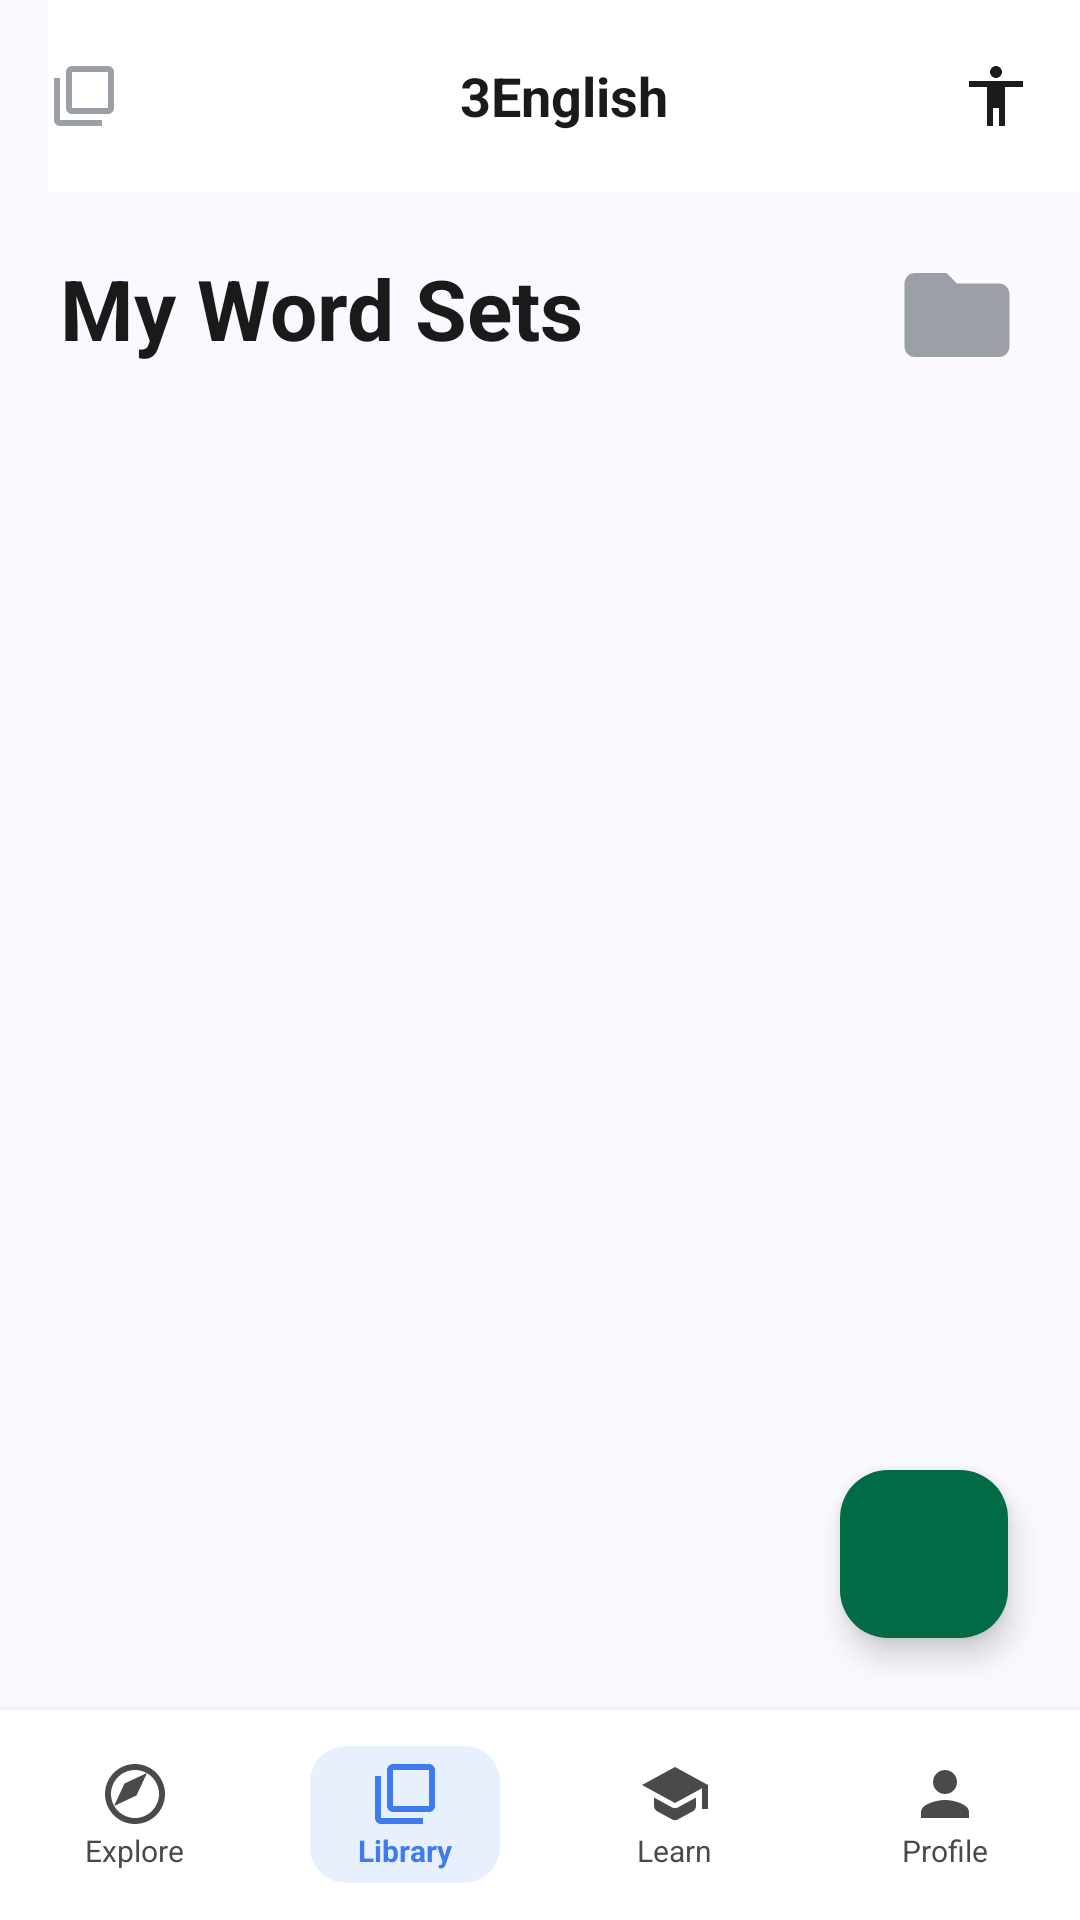

Where icons sit on this 1080 × 1920 app screen, as detection(x1, y1, x2, y2):
accessibility: detection(969, 66, 1023, 126)
folder: detection(904, 273, 1010, 357)
